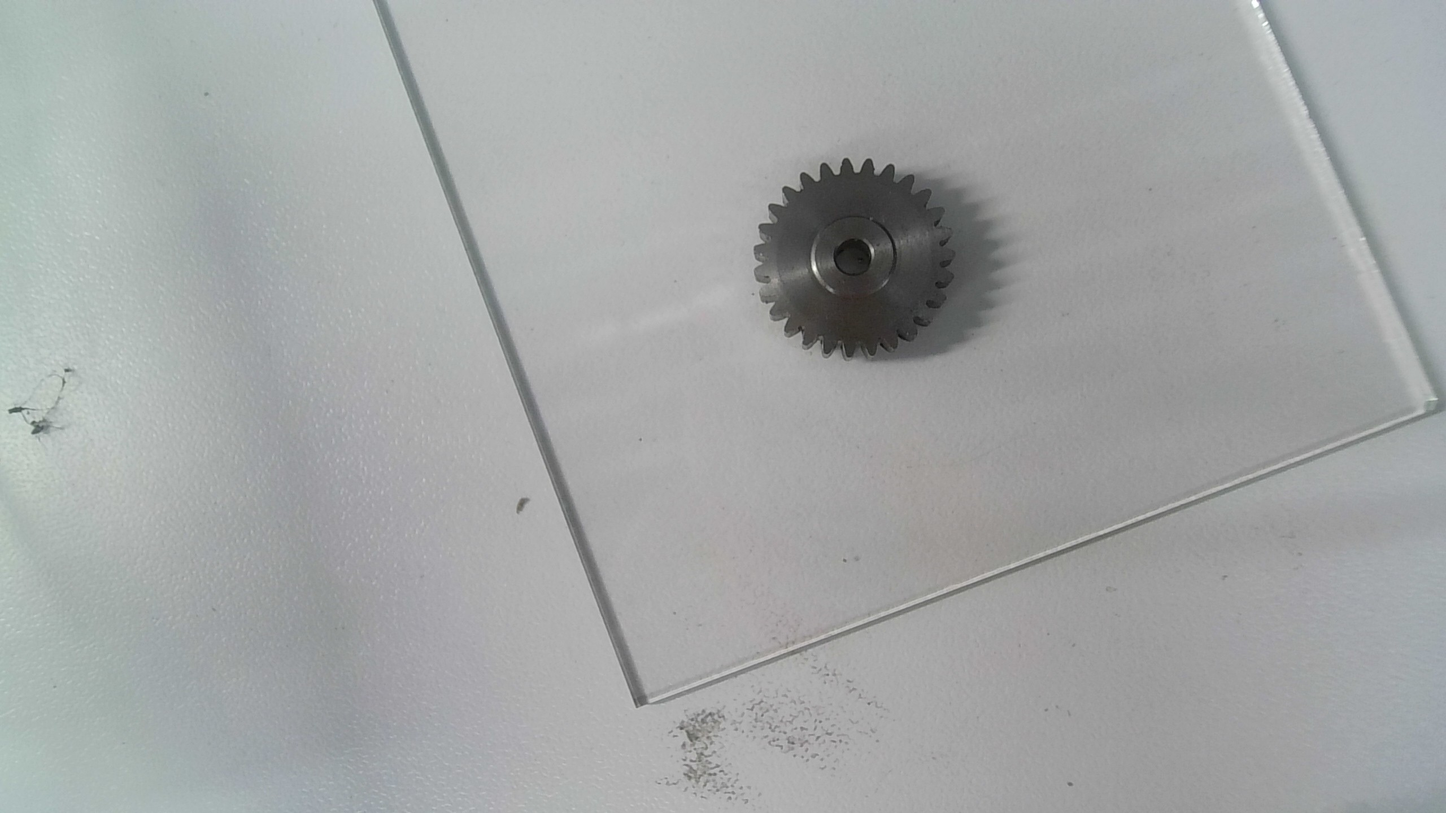gear: (748, 155, 956, 364)
